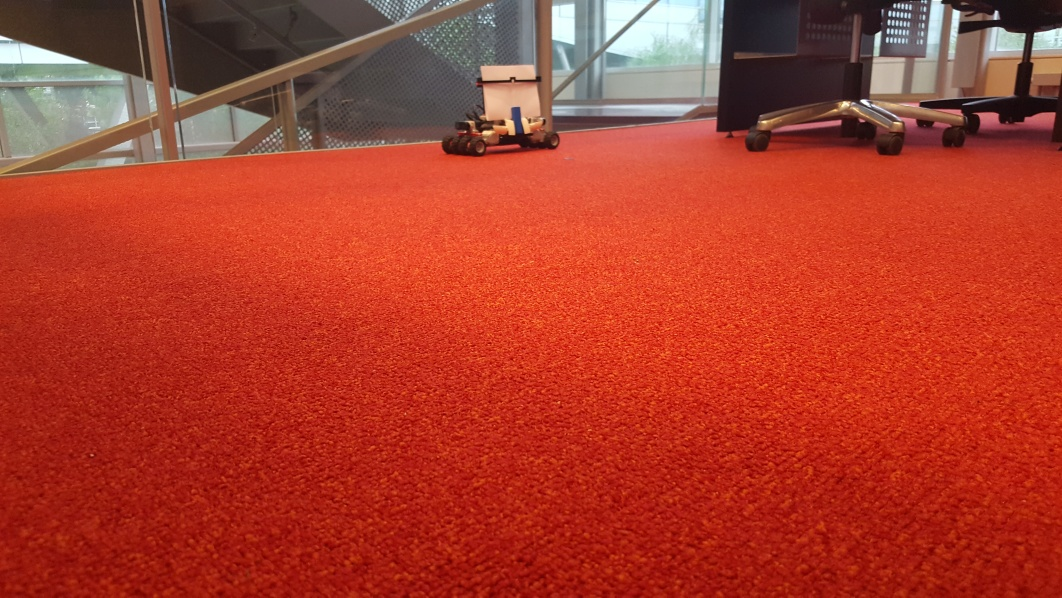car: (442, 63, 563, 157)
